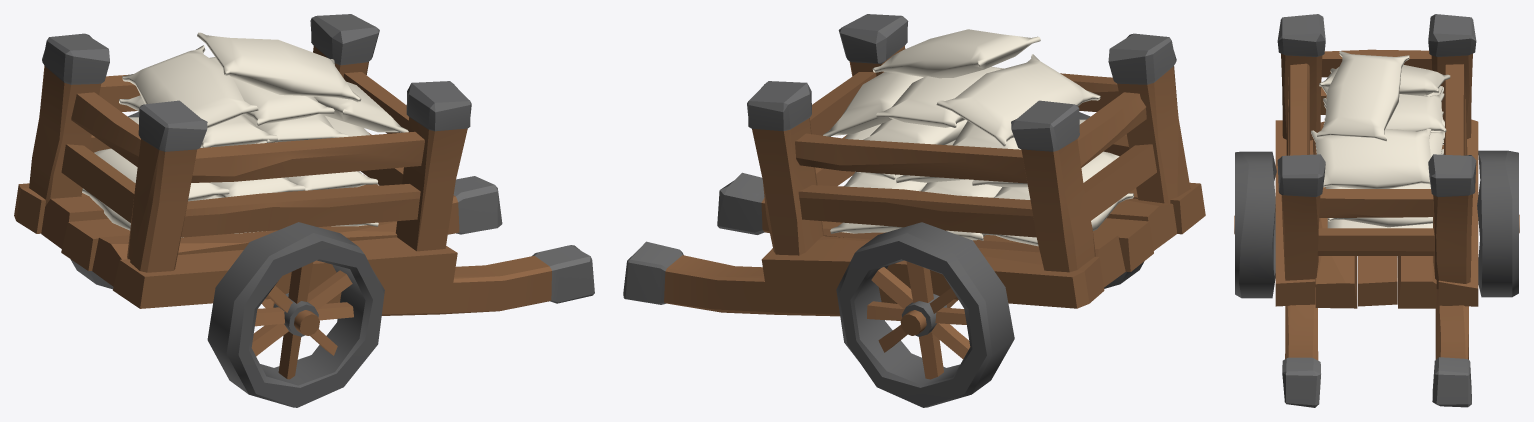
File: Wagon_D.fbx
3 renders of one model, left to right at view 1: azimuth 30°, elevation 25°; view 2: azimuth 150°, elevation 25°; view 3: azimuth 270°, elevation 25°, orthographic. The views are drawn at different scales.
Visible parts, largest first — view 1: Wagon_D; view 2: Wagon_D; view 3: Wagon_D.
Part boxes in pixels (x1,y1,x2,y2): Wagon_D: (14, 14, 594, 407); Wagon_D: (623, 14, 1205, 407); Wagon_D: (1234, 14, 1519, 407).
Bounding box in the file's own units: 252 × 153 × 167.
